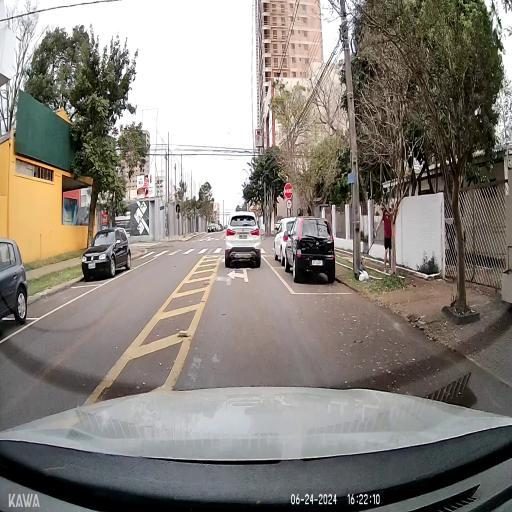R-1: (284, 183, 293, 199)
